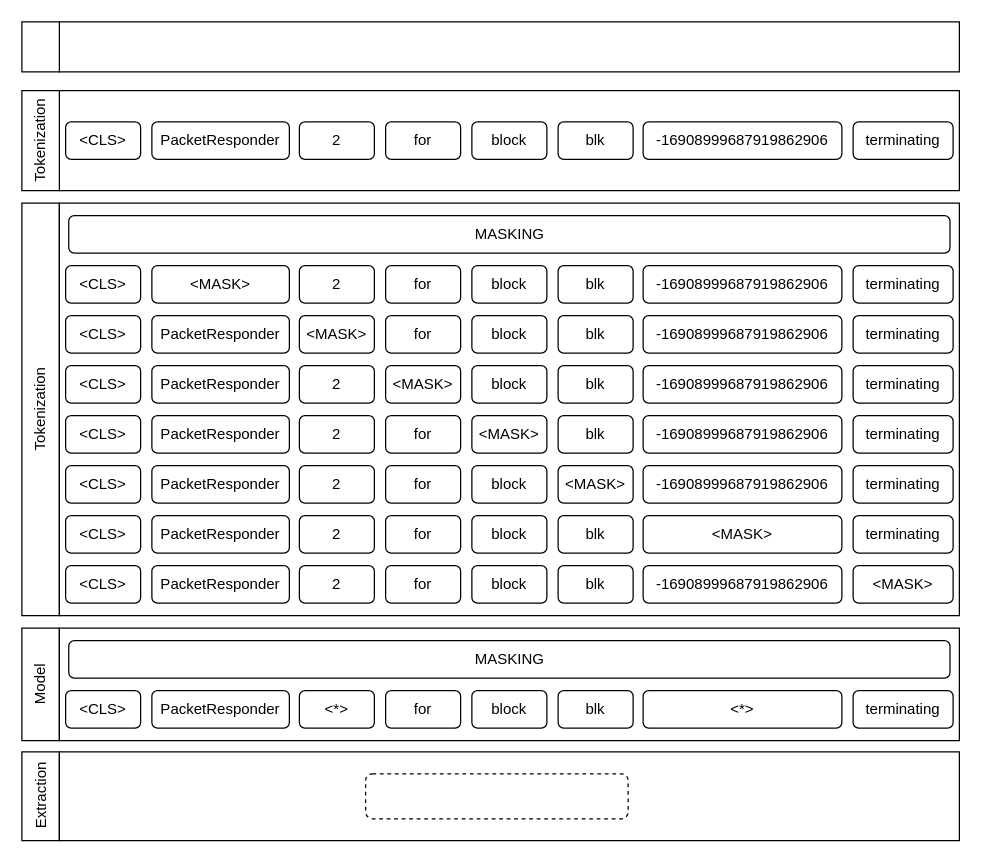
Some shapes in this 981 by 863 pixel diagram are drawn without their labels. The box of each missing label's shape, as (x1, y1, x2, y2) in pixels:
generated template: (364, 772, 628, 819)
Input: (21, 21, 59, 72)
PacketResponder 2 for block blk -16908999687919862906 terminating: (58, 21, 959, 72)
